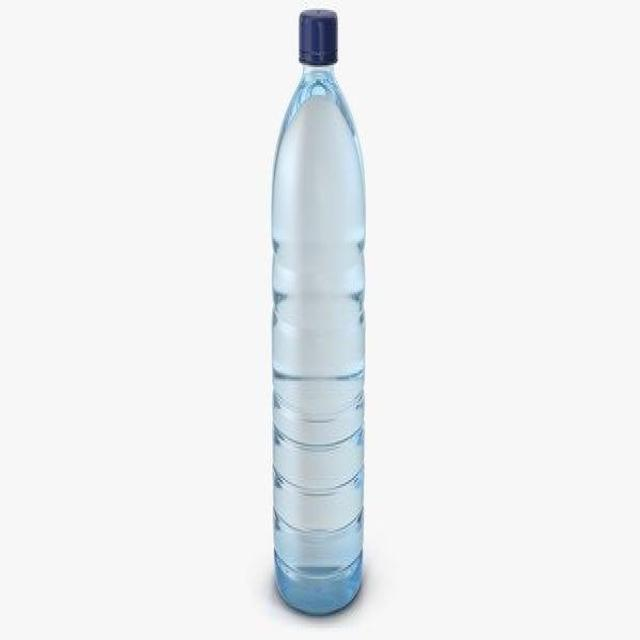bottle: (266, 6, 373, 614)
